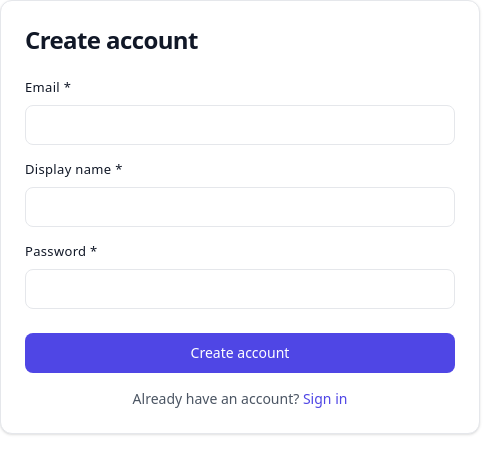
Test: RegisterForm — TASK-3.1 › error handling › shows a password validation error when password is shorter than 8 characters
Type "new@example.com" into the field labelled "Email *" at (240, 125), box [25,105,455,145]
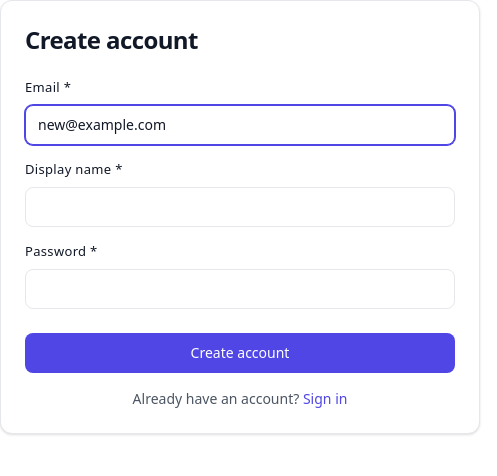
Type "Neo" into the field labelled "Display name *" at (240, 207), box [25,187,455,227]
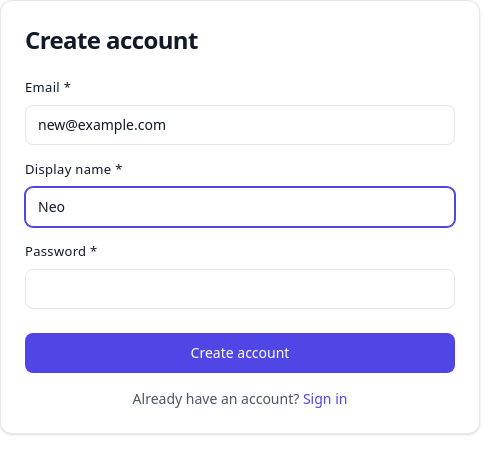
Type "short" into the password field labelled "Password *" at (240, 289), box [25,269,455,309]
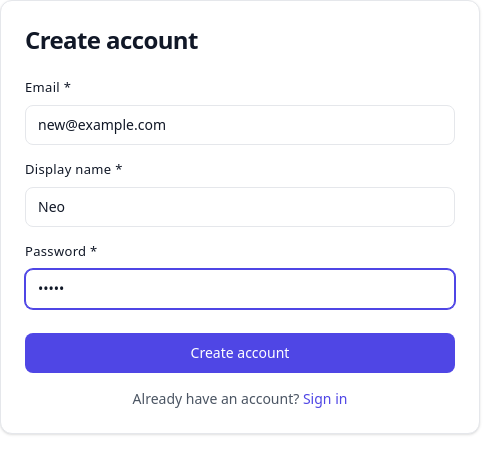
Click the button "Create account" at (240, 353), box [25,333,455,373]
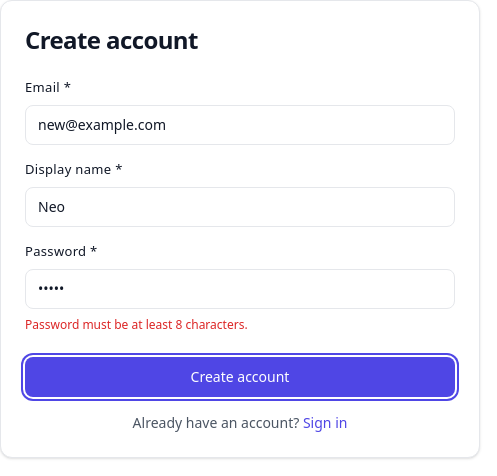
Check: the message shows "8", box [25,316,248,333]
